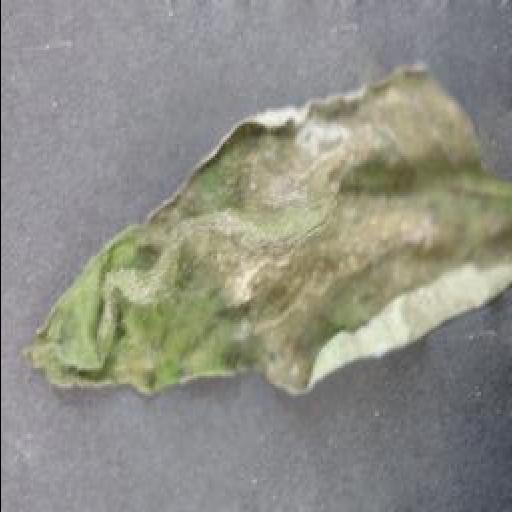disease_tomato: (16, 54, 512, 406)
